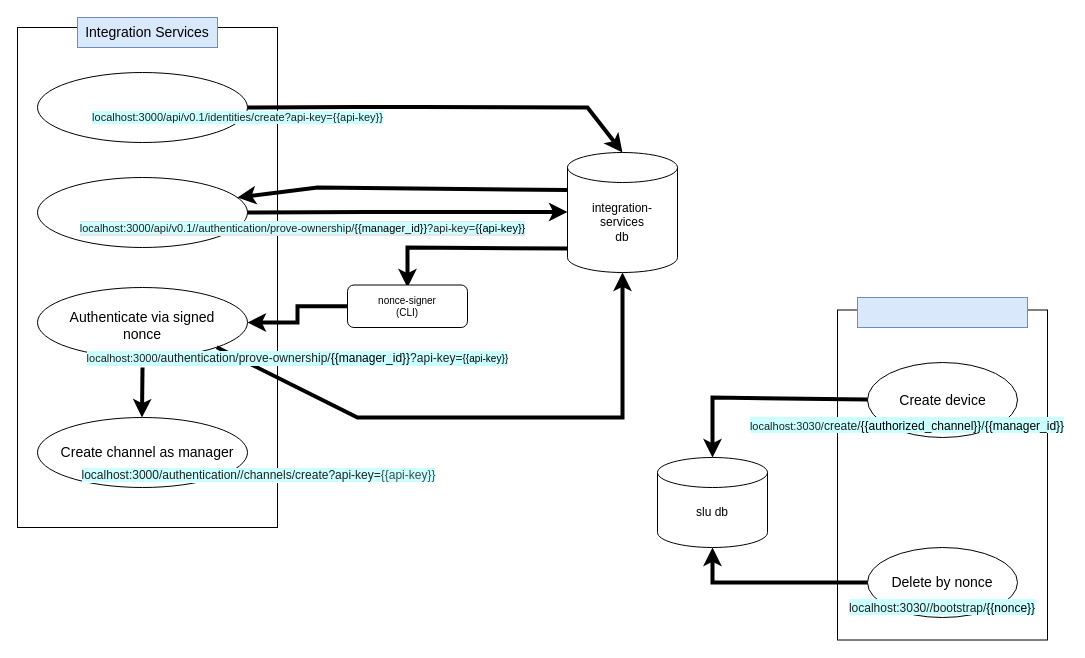
The diagram is 1085 pixels wide and 658 high, and some of its shapes have lost their labels. The box of each missing label's shape, as (x1, y1, x2, y2) in pixels:
Create managers id: (36, 72, 248, 142)
One Shot Device: (856, 296, 1028, 328)
Prove manager's id: (36, 176, 248, 248)
